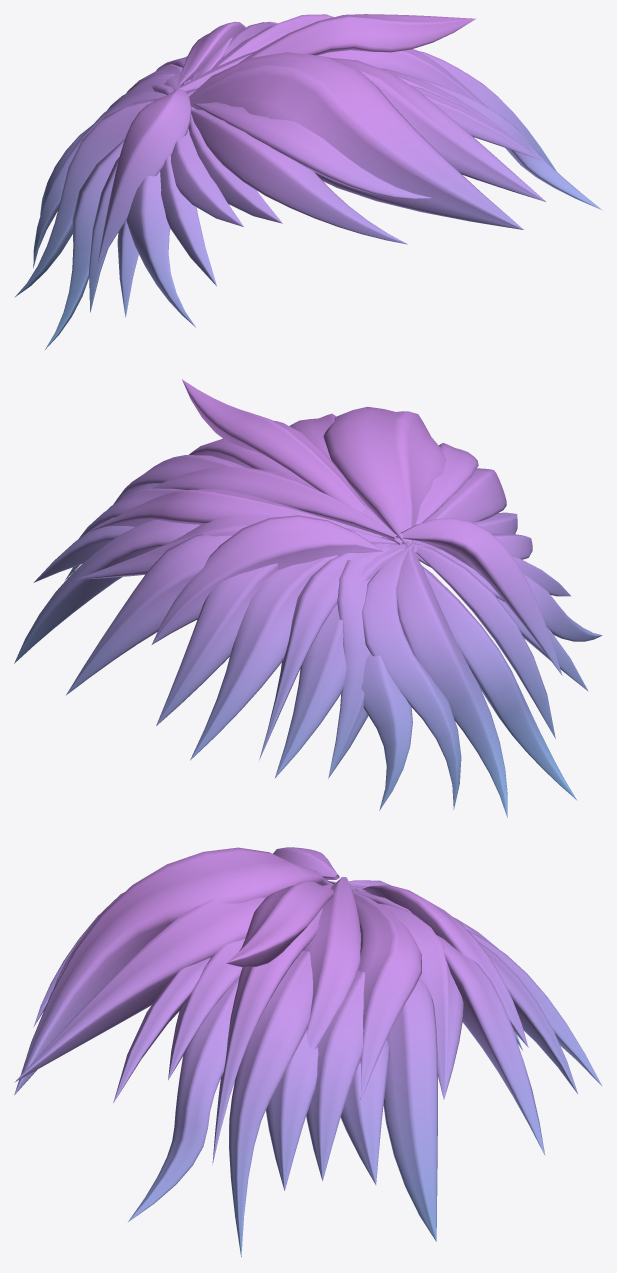
File: haird4.fbx
3 renders of one model, top to bottom at view 1: azimuth 30°, elevation 25°; view 2: azimuth 150°, elevation 25°; view 3: azimuth 270°, elevation 25°, orthographic. The views are drawn at different scales.
Parts seen in each view (by area): view 1: NurbsPath.036; view 2: NurbsPath.036; view 3: NurbsPath.036.
Boxes of the visible parts, left/top/right/bottom form: NurbsPath.036: left=14, top=14, right=602, bottom=349; NurbsPath.036: left=14, top=379, right=602, bottom=817; NurbsPath.036: left=14, top=847, right=602, bottom=1256.
Size of the model in its own units: 259 by 294 by 153.
